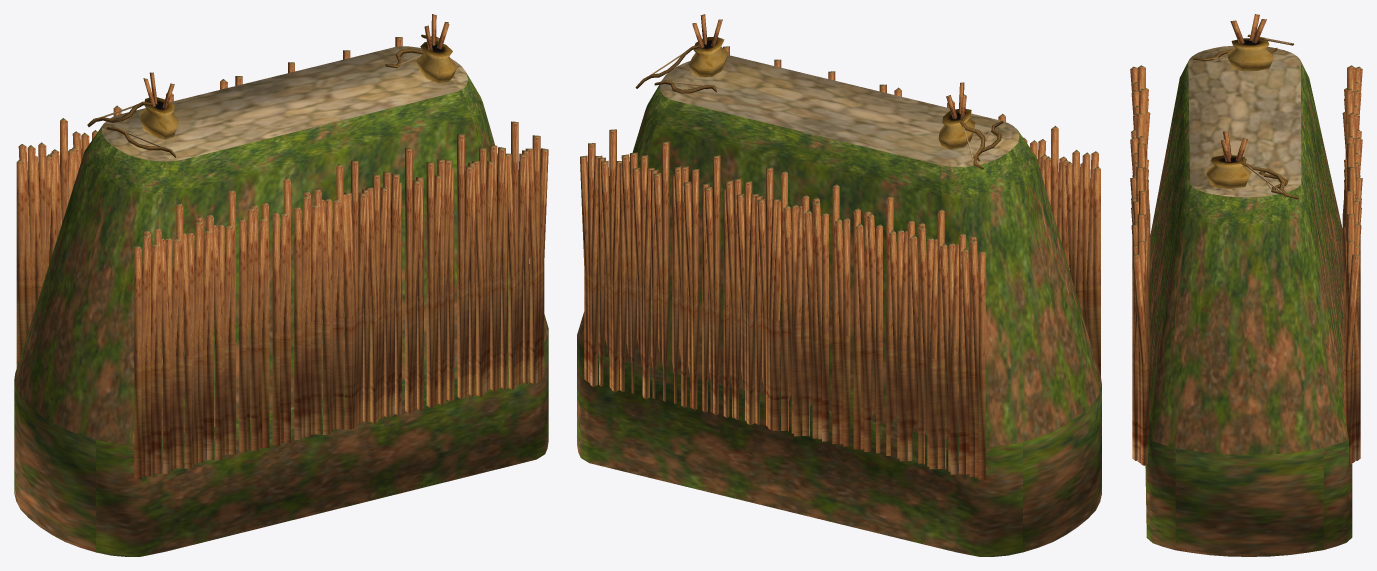
The model's file is wall_short.dae.
3 views of the same model, side by side, from view 1: azimuth 30°, elevation 25°; view 2: azimuth 150°, elevation 25°; view 3: azimuth 270°, elevation 25° (orthographic). The views are drawn at different scales.
Parts seen in each view (by area): view 1: wall_short; view 2: wall_short; view 3: wall_short.
Part boxes in pixels (x1,y1,x2,y2): wall_short: (14, 14, 548, 556); wall_short: (577, 14, 1101, 556); wall_short: (1130, 14, 1362, 556).
Bounding box in the file's own units: 22.28 × 10.23 × 18.33.
